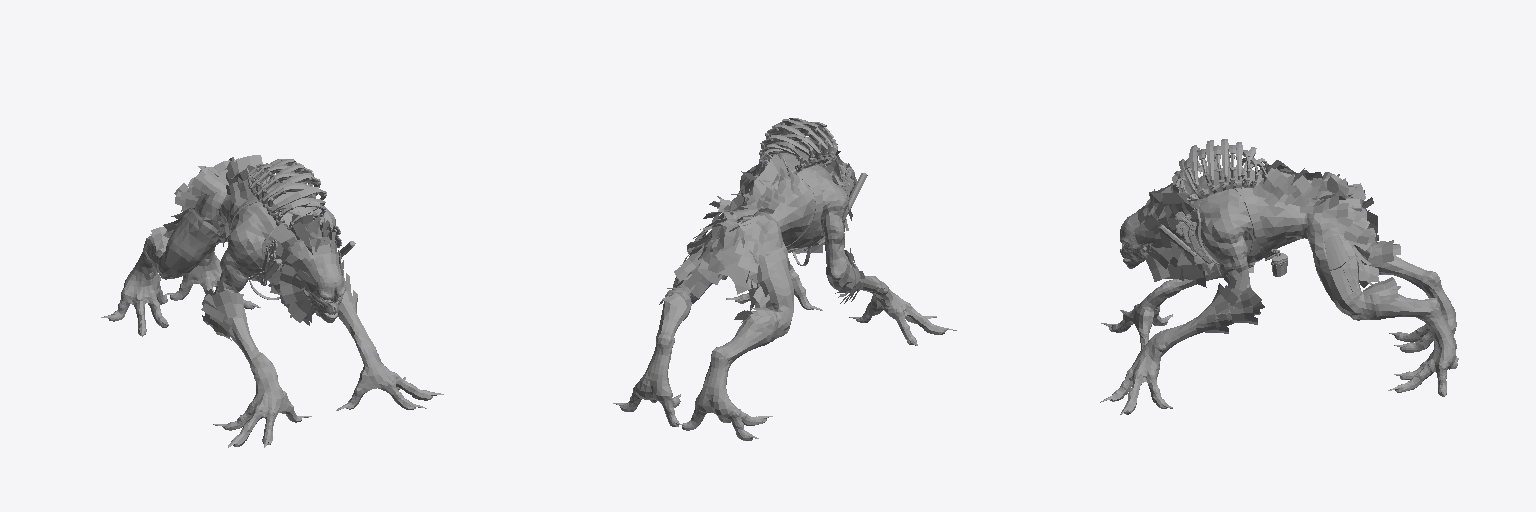
Rendered from hdemon.obj.
3 views of the same model, side by side, from view 1: azimuth 30°, elevation 25°; view 2: azimuth 150°, elevation 25°; view 3: azimuth 270°, elevation 25° (orthographic).
Visible parts, largest first — view 1: rdmobj04, rdmobj03, rdmobj01.002, rdmobj00.002; view 2: rdmobj04, rdmobj03, rdmobj01.002; view 3: rdmobj04, rdmobj03, rdmobj01.002, rdmobj00.002.
Part boxes in pixels (left/top/right/bottom): rdmobj04: left=101, top=189, right=443, bottom=447; rdmobj03: left=147, top=155, right=357, bottom=340; rdmobj01.002: left=229, top=159, right=355, bottom=299; rdmobj00.002: left=302, top=272, right=345, bottom=322; rdmobj04: left=613, top=165, right=956, bottom=440; rdmobj03: left=659, top=141, right=864, bottom=328; rdmobj01.002: left=675, top=118, right=867, bottom=278; rdmobj04: left=1100, top=178, right=1458, bottom=414; rdmobj03: left=1130, top=160, right=1400, bottom=333; rdmobj01.002: left=1158, top=139, right=1357, bottom=292; rdmobj00.002: left=1120, top=216, right=1150, bottom=268.
Size of the model in its own units: 27.38 by 26.73 by 39.12.